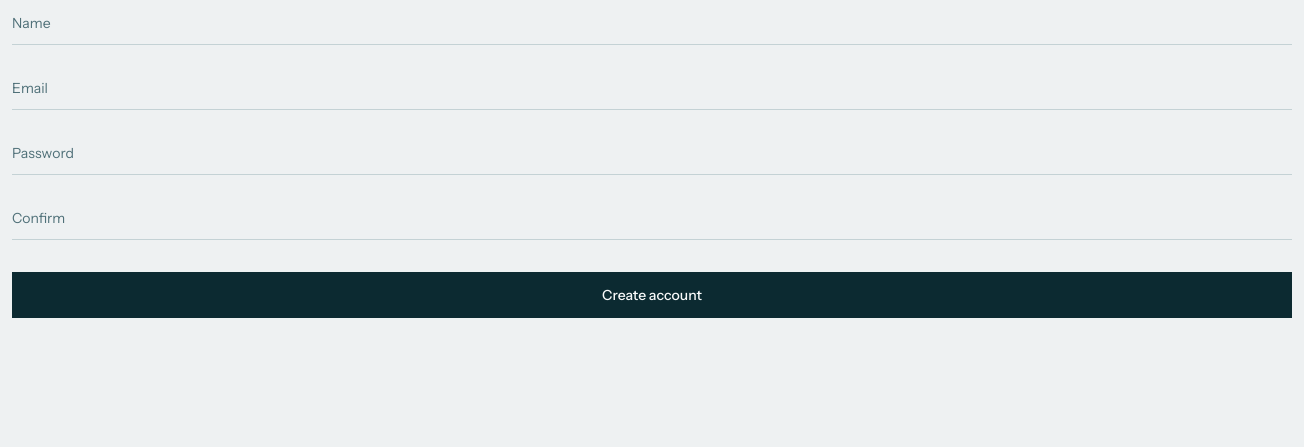
RegisterForm › blocks submission and shows a field error when empty
Click the button "Create account" at [652, 295], box x1=12 y1=272 x2=1292 y2=318
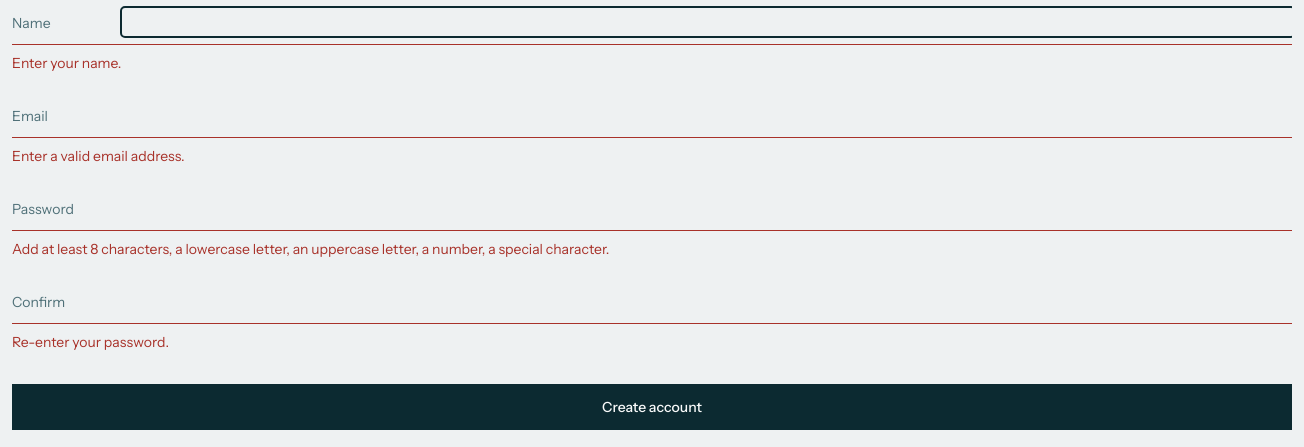
Now the text "Enter your name." is shown, box x1=12 y1=54 x2=121 y2=72
